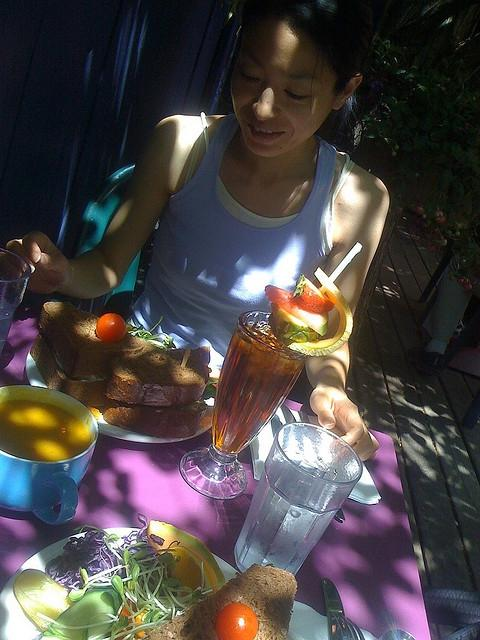pineapple: (270, 302, 320, 343)
strawberry: (293, 274, 335, 314)
tomato: (216, 603, 258, 640), (96, 313, 126, 343)
